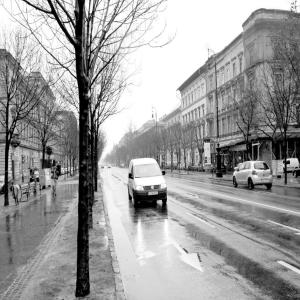Vehicle-registration-plate: (149, 193, 159, 197), (262, 180, 269, 183)
